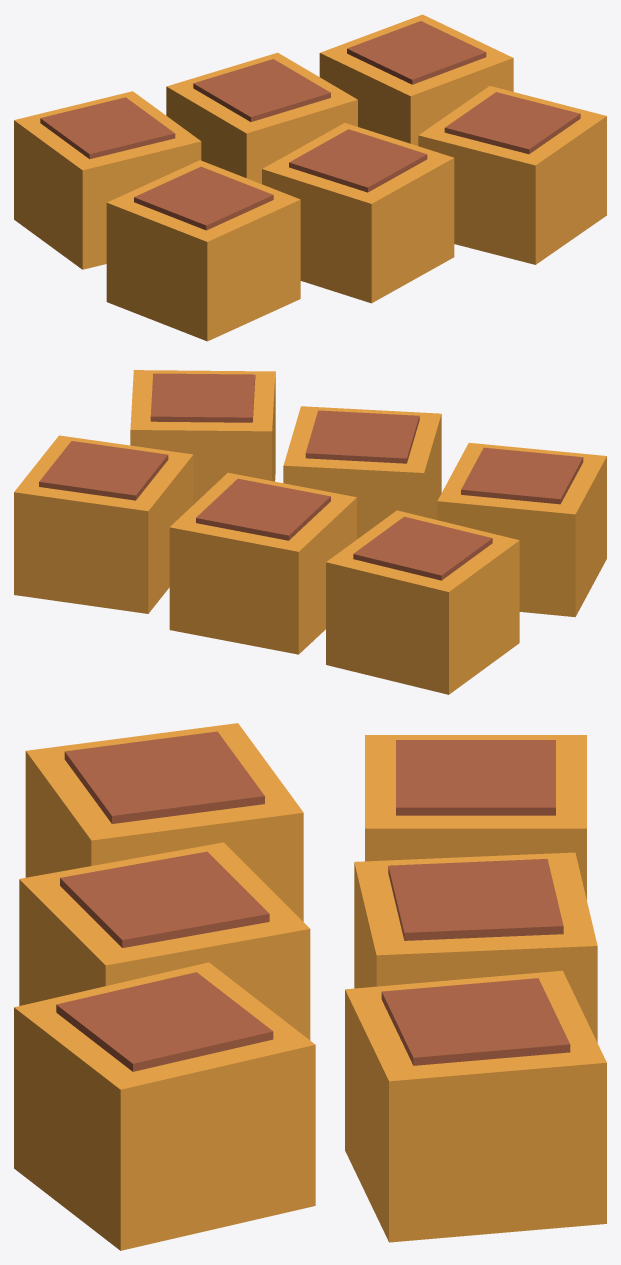
Rendered from tofu-cooked.glb.
3 views of the same model, one above another, from view 1: azimuth 30°, elevation 25°; view 2: azimuth 150°, elevation 25°; view 3: azimuth 270°, elevation 25° (orthographic). The views are drawn at different scales.
Visible parts, largest first — view 1: tofu-cooked; view 2: tofu-cooked; view 3: tofu-cooked.
Part boxes in pixels (x1,y1,x2,y2): tofu-cooked: [14, 14, 606, 341]; tofu-cooked: [14, 370, 606, 694]; tofu-cooked: [14, 723, 606, 1250].
Size of the model in its own units: 0.1952 by 0.042 by 0.1334.
Materials: 1 (1 with a texture image).
